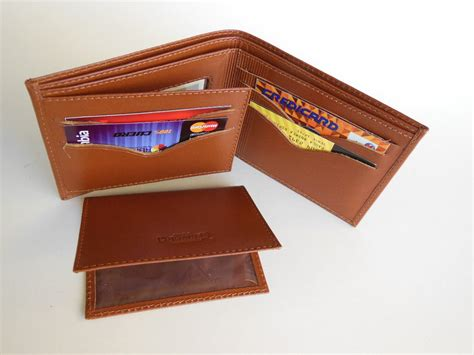cuero: (23, 28, 431, 320)
